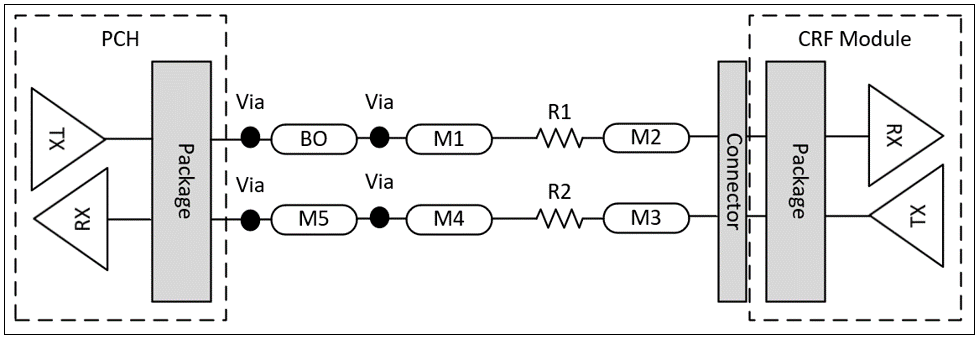circle: (237, 207, 264, 233), (368, 204, 392, 231), (368, 124, 391, 150), (239, 125, 262, 150)
dotted_rectangle: (11, 11, 234, 327), (747, 13, 964, 322)
oval: (597, 118, 692, 159), (268, 200, 361, 241), (404, 201, 497, 239), (406, 122, 494, 159), (268, 122, 359, 157), (601, 201, 692, 235)
rectangle: (762, 58, 829, 306), (149, 59, 214, 304), (716, 58, 747, 303)
resistor: (528, 204, 589, 235), (529, 122, 589, 153)
triangle: (31, 163, 112, 275), (28, 85, 108, 196), (866, 82, 947, 191), (866, 162, 946, 271)
